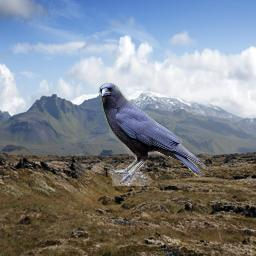Crow: (97, 83, 206, 186)
